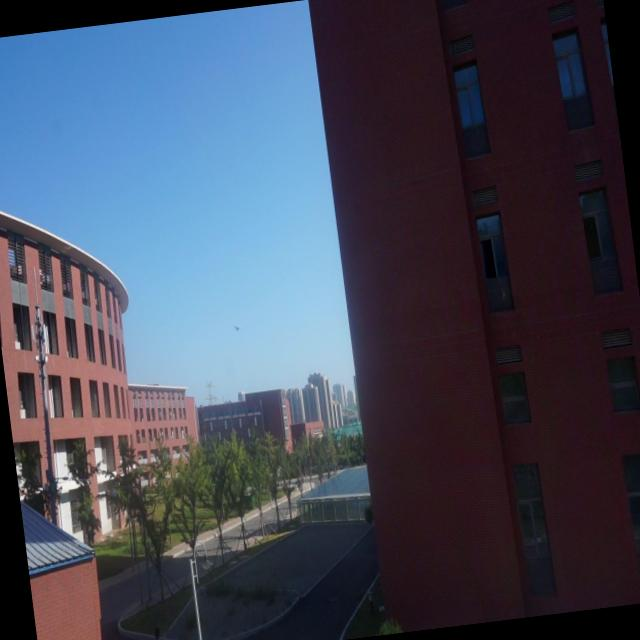drone: (231, 318, 244, 338)
